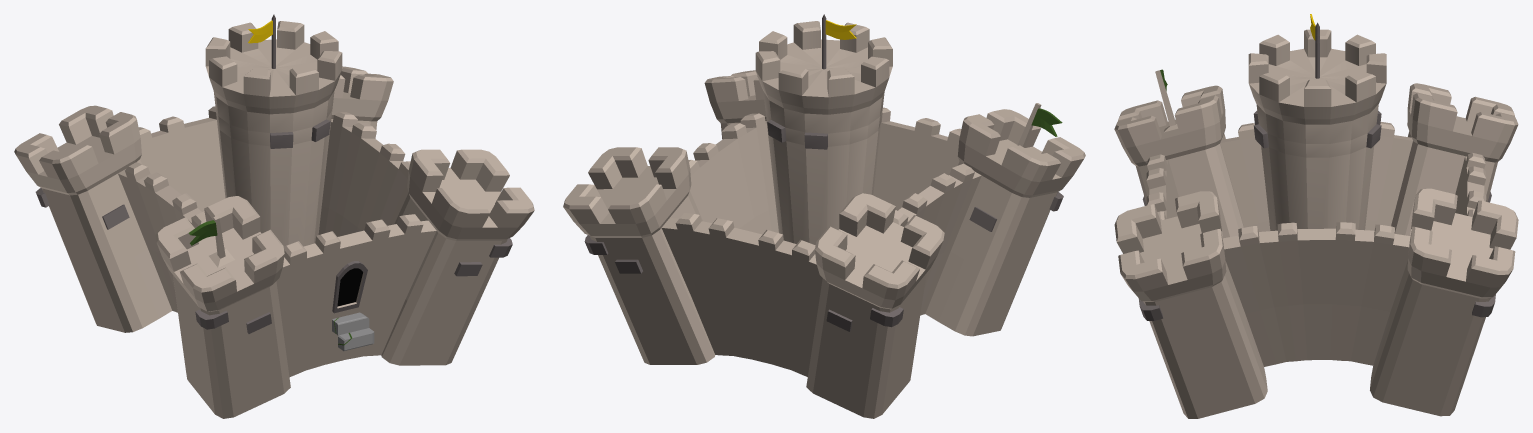
The model's file is castello.fbx.
3 views of the same model, side by side, from view 1: azimuth 30°, elevation 25°; view 2: azimuth 150°, elevation 25°; view 3: azimuth 270°, elevation 25° (orthographic). The views are drawn at different scales.
Parts seen in each view (by area): view 1: CASTELLO; view 2: CASTELLO; view 3: CASTELLO.
Boxes of the visible parts, x1,y1,x2,y2 form: CASTELLO: (14, 14, 534, 418); CASTELLO: (563, 14, 1085, 418); CASTELLO: (1114, 14, 1518, 418).
Size of the model in its own units: 2081 by 1931 by 2084.
